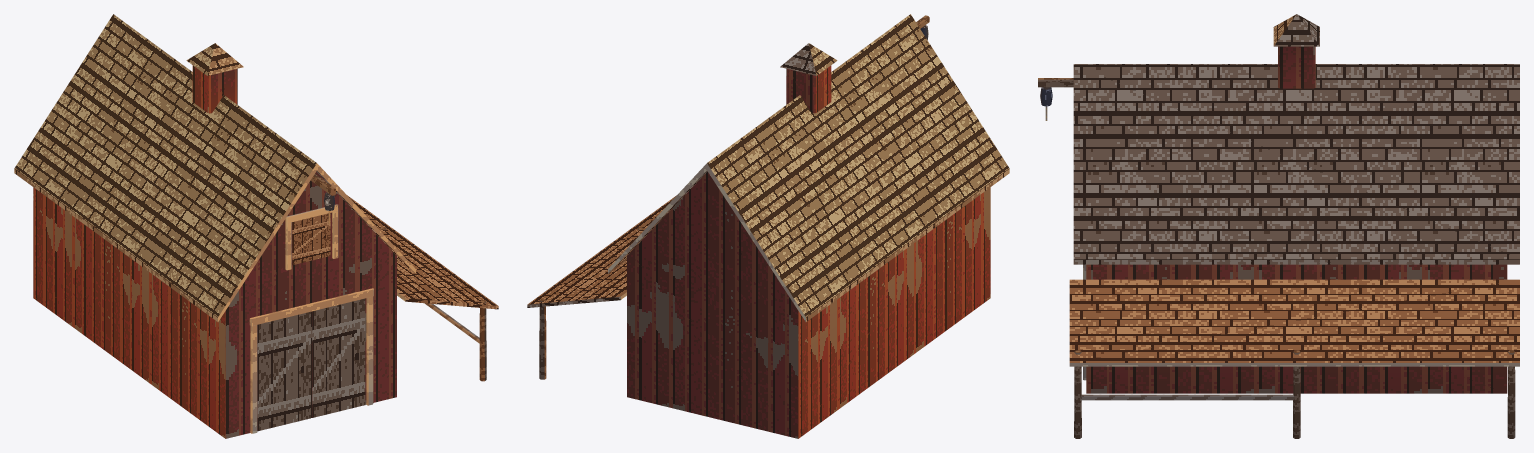
File: wtown.stable.glb
3 renders of one model, left to right at view 1: azimuth 30°, elevation 25°; view 2: azimuth 150°, elevation 25°; view 3: azimuth 270°, elevation 25°, orthographic. The views are drawn at different scales.
Parts seen in each view (by area): view 1: kit_roof, kit_body, kit_card_panes, kit_lean_to, kit_trim, kit_cupola, kit_cupola_cap; view 2: kit_body, kit_roof, kit_lean_to, kit_cupola, kit_cupola_cap; view 3: kit_roof, kit_lean_to, kit_body, kit_cupola, kit_lean_rail, kit_cupola_cap, kit_hoist.
Part boxes in pixels (x1,y1,x2,y2): kit_roof: (14, 14, 415, 321); kit_body: (33, 171, 396, 438); kit_card_panes: (257, 213, 365, 431); kit_lean_to: (347, 195, 498, 381); kit_trim: (249, 204, 373, 433); kit_cupola: (192, 65, 237, 113); kit_cupola_cap: (186, 43, 243, 75); kit_body: (627, 171, 990, 438); kit_roof: (608, 14, 1009, 321); kit_lean_to: (527, 195, 676, 379); kit_cupola: (786, 65, 831, 113); kit_cupola_cap: (780, 43, 837, 75); kit_roof: (1073, 64, 1519, 264); kit_lean_to: (1069, 279, 1519, 438); kit_body: (1086, 264, 1507, 393); kit_cupola: (1278, 46, 1315, 88); kit_lean_rail: (1080, 394, 1294, 400); kit_cupola_cap: (1273, 14, 1319, 46); kit_hoist: (1038, 78, 1073, 106).
Size of the model in its own units: 8.37 by 8.75 by 11.45.
9 materials, 9 textured.
